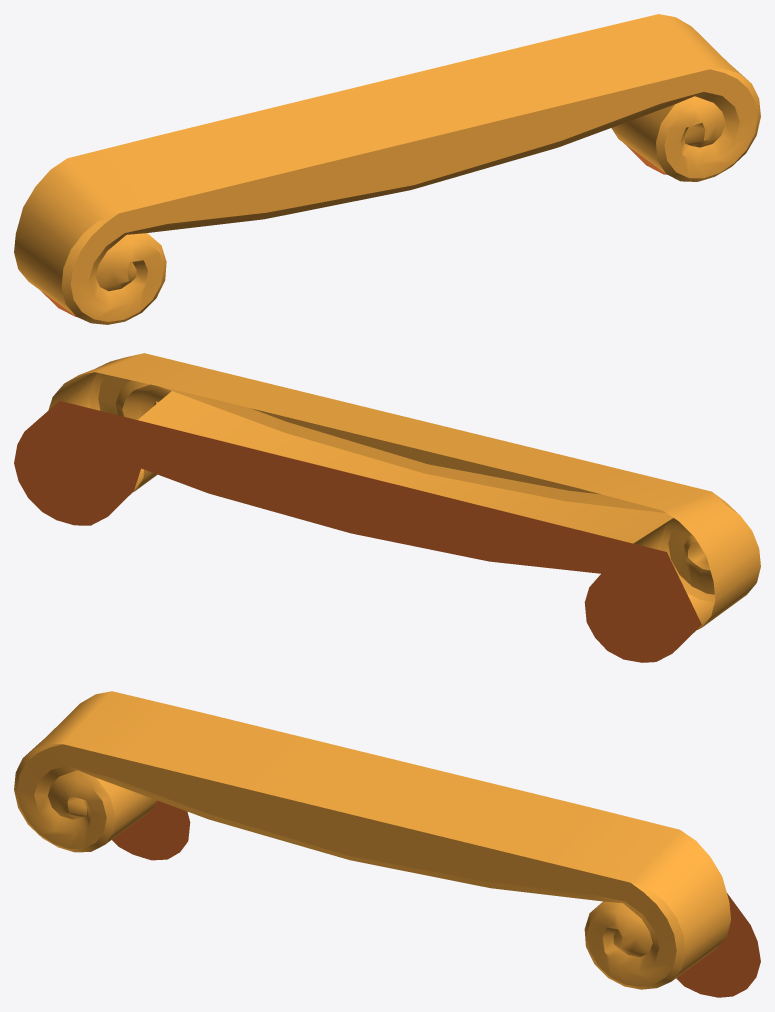
Rendered from shelf.fbx.
3 views of the same model, one above another, from view 1: azimuth 30°, elevation 25°; view 2: azimuth 150°, elevation 25°; view 3: azimuth 330°, elevation 25° (orthographic). The views are drawn at different scales.
Parts seen in each view (by area): view 1: Egypt_shelf; view 2: Egypt_shelf; view 3: Egypt_shelf.
Boxes of the visible parts, x1,y1,x2,y2 form: Egypt_shelf: [14, 14, 760, 324]; Egypt_shelf: [14, 353, 760, 662]; Egypt_shelf: [14, 691, 760, 997].
Bounding box in the file's own units: 4.14 × 0.904 × 0.5262.
1 material, 1 textured.
